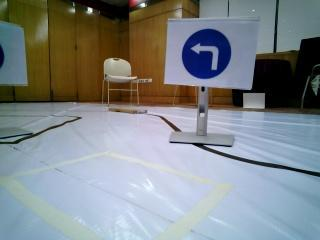left: (172, 19, 243, 84)
